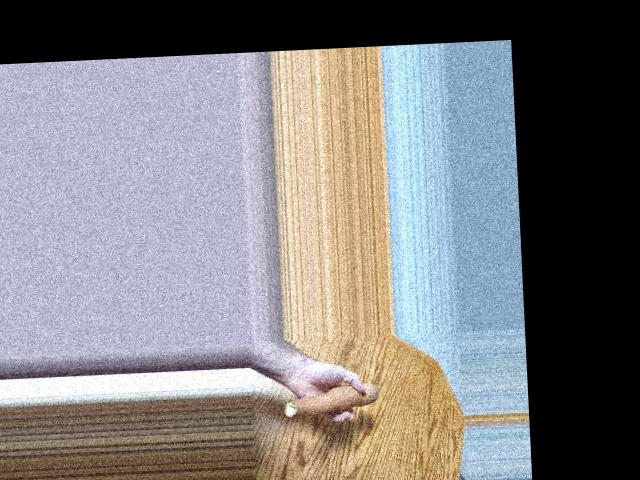sweet_potato: (285, 382, 378, 414)
